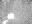person: (7, 14, 14, 18), (3, 19, 8, 23)
